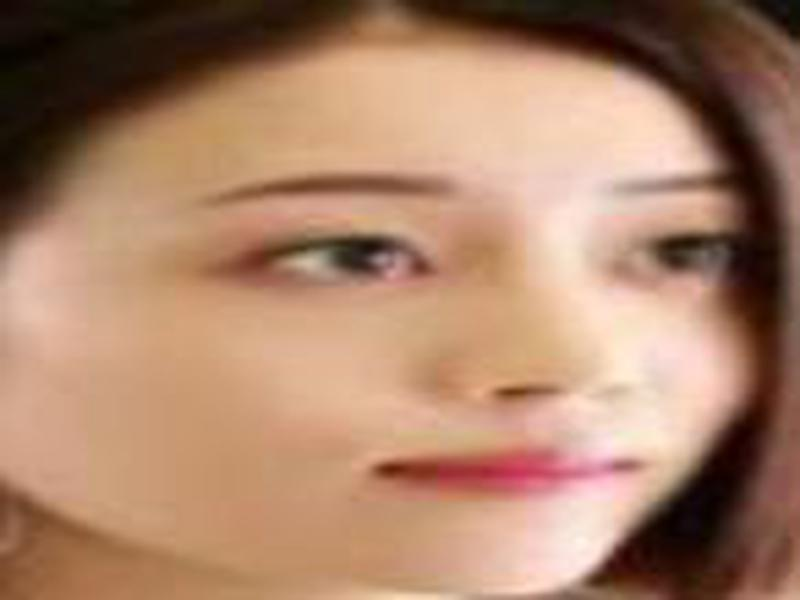without_mask: (8, 19, 757, 600)
